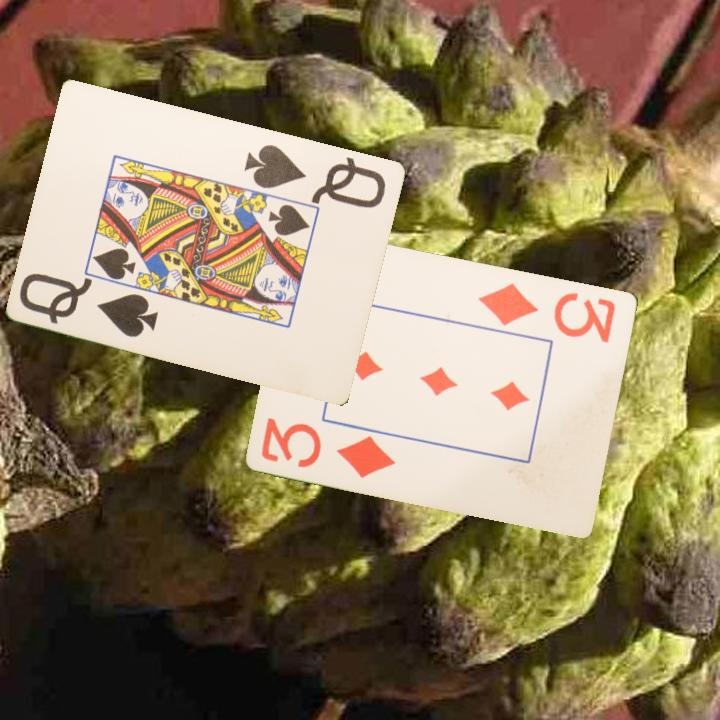3d: (258, 413, 399, 481), (475, 279, 619, 345)
Qs: (242, 140, 389, 211), (16, 269, 162, 340)
